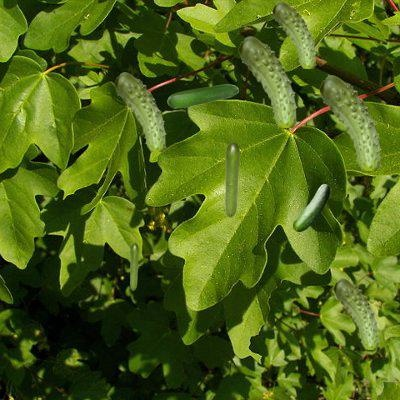cucumber: (319, 75, 380, 169), (238, 36, 296, 126), (114, 72, 165, 150), (333, 278, 378, 348), (272, 1, 315, 67), (167, 84, 237, 107), (293, 184, 328, 230), (225, 142, 238, 216), (130, 243, 137, 289)
